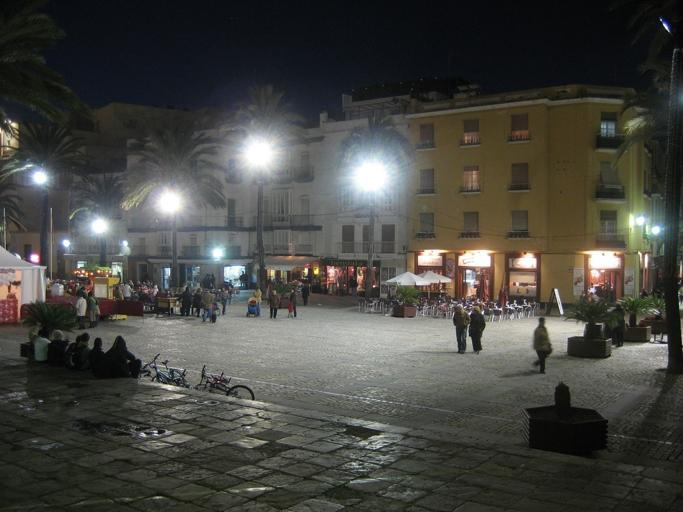non-vehicle: (194, 363, 255, 401), (141, 351, 190, 388)
